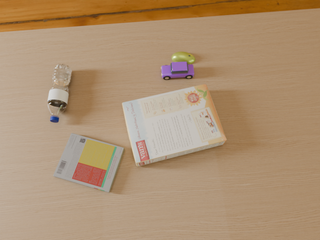book: (53, 133, 125, 192)
bottle: (47, 63, 72, 122)
box: (122, 84, 226, 166)
mouse: (171, 52, 195, 64)
toy_car: (161, 62, 194, 80)
